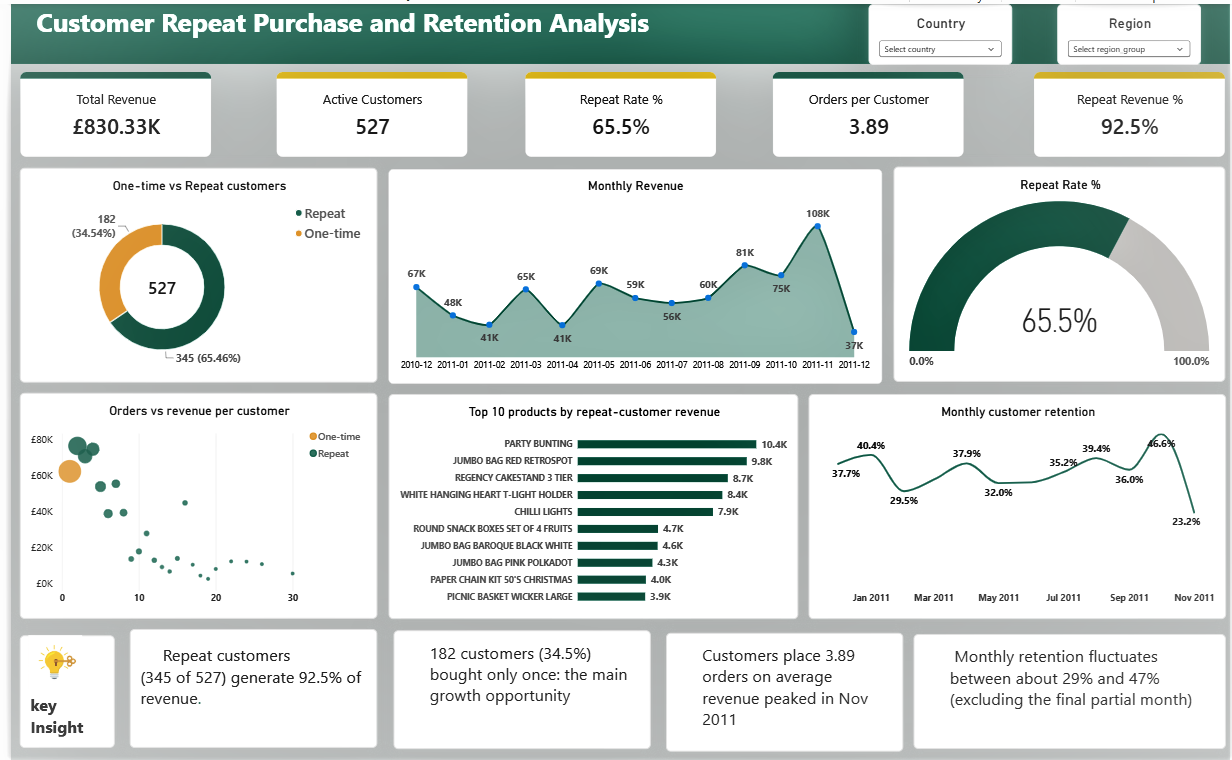

What the dashboard file says about the page in this screenshot:
{"tool":"powerbi","page":{"name":"Page 1","canvas":[2000,1241],"ordinal":0},"visuals":[{"type":"textbox","box":[14.4,1036.2,155.9,184.7],"z":0},{"type":"textbox","box":[0,0,2000.6,98.5],"z":1000},{"type":"cardVisual","fields":{"Data":["transactions.Active Customers"]},"box":[435.5,110,315,141],"z":2000},{"type":"cardVisual","fields":{"Data":["customers.Repeat Rate %"]},"box":[842.3,110.2,315,141],"z":3000},{"type":"cardVisual","fields":{"Data":["transactions.Total Revenue"]},"box":[14.4,110.8,315,141.9],"z":4000},{"type":"cardVisual","fields":{"Data":["customers.Orders per Customer"]},"box":[1249.1,110.5,315,141],"z":5000},{"type":"cardVisual","fields":{"Data":["transactions.Repeat Revenue %"]},"box":[1678.6,110.8,315,141],"z":6000},{"type":"donutChart","title":"One-time vs Repeat customers","fields":{"Category":["customers.Customer Type"],"Y":["Count(customers.customer_id)"]},"box":[14.4,268.8,586.9,352.9],"z":7000},{"type":"areaChart","title":"Monthly Revenue","fields":{"Category":["transactions.YearMonth"],"Y":["Sum(transactions.revenue)"]},"box":[620.6,270.9,810.5,352.9],"z":8000},{"type":"listSlicer","title":"Region","fields":{"Values":["customers.region_group"]},"box":[1717.5,0,235.7,100],"z":9000},{"type":"gauge","fields":{"Y":["customers.Repeat Rate %"]},"box":[1448.7,266.8,545,353.8],"z":10000},{"type":"scatterChart","title":"Orders vs revenue per customer","fields":{"Series":["customers.Customer Type"],"Size":["CountNonNull(customers.customer_id)"],"X":["customers.Order Count"],"Y":["transactions.Total Revenue"]},"box":[14.4,638.1,586.9,371.4],"z":11000},{"type":"barChart","title":"Top 10 products by repeat-customer revenue","fields":{"Category":["transactions.description"],"Y":["customers.Repeat Customer Revenue"]},"box":[619.7,640.2,673,369.3],"z":12000},{"type":"lineChart","title":"Monthly customer retention","fields":{"Category":["retention_monthly.month"],"Y":["retention_monthly.Retention %"]},"box":[1309.1,640.2,685.3,369.3],"z":13000},{"type":"listSlicer","title":"Country","fields":{"Values":["customers.country"]},"box":[1407.6,0,235.7,100],"z":14000},{"type":"textbox","box":[195.7,1026,406.3,194.9],"z":15000},{"type":"textbox","box":[1075.6,1031.1,389.9,194.9],"z":16000},{"type":"textbox","box":[627.5,1028.5,422.7,194.9],"z":17000},{"type":"textbox","box":[1481.5,1034.2,513,188.8],"z":18000},{"type":"image","box":[28.7,1036.2,88.2,88.2],"z":19000}]}

Visuals, with their boxes in screenshot pixels (x1, y1, x2, y2), scaled from the page's 2000x1241 canvas onto the 1232x760 screenshot:
textbox: 9:635:105:748
textbox: 0:0:1231:60
cardVisual - transactions.Active Customers: 268:67:462:154
cardVisual - customers.Repeat Rate %: 519:67:713:154
cardVisual - transactions.Total Revenue: 9:68:203:155
cardVisual - customers.Orders per Customer: 769:68:963:154
cardVisual - transactions.Repeat Revenue %: 1034:68:1228:154
"One-time vs Repeat customers" donutChart: 9:165:370:381
"Monthly Revenue" areaChart: 382:166:882:382
"Region" listSlicer: 1058:0:1203:61
gauge - customers.Repeat Rate %: 892:163:1228:380
"Orders vs revenue per customer" scatterChart: 9:391:370:618
"Top 10 products by repeat-customer revenue" barChart: 382:392:796:618
"Monthly customer retention" lineChart: 806:392:1229:618
"Country" listSlicer: 867:0:1012:61
textbox: 121:628:371:748
textbox: 663:631:903:751
textbox: 387:630:647:749
textbox: 913:633:1229:749
image: 18:635:72:689
